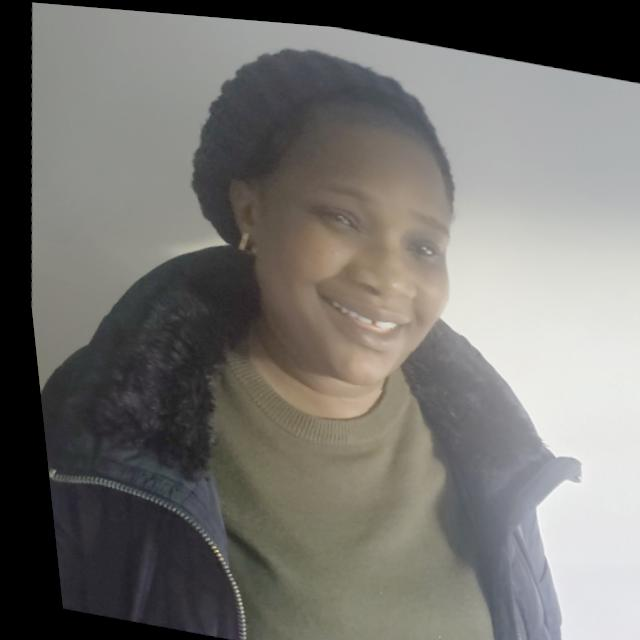happy: (221, 101, 482, 400)
